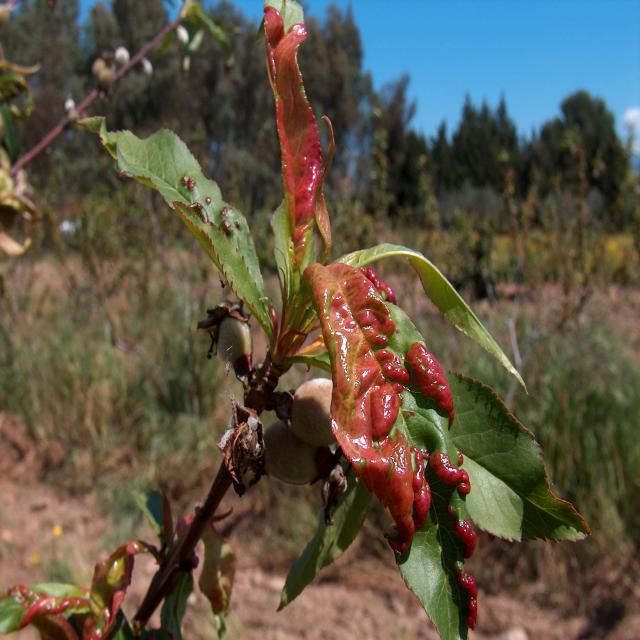peach_leaf_curl: (301, 258, 480, 632)
